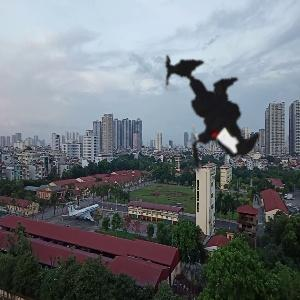drone: (108, 19, 299, 210)
